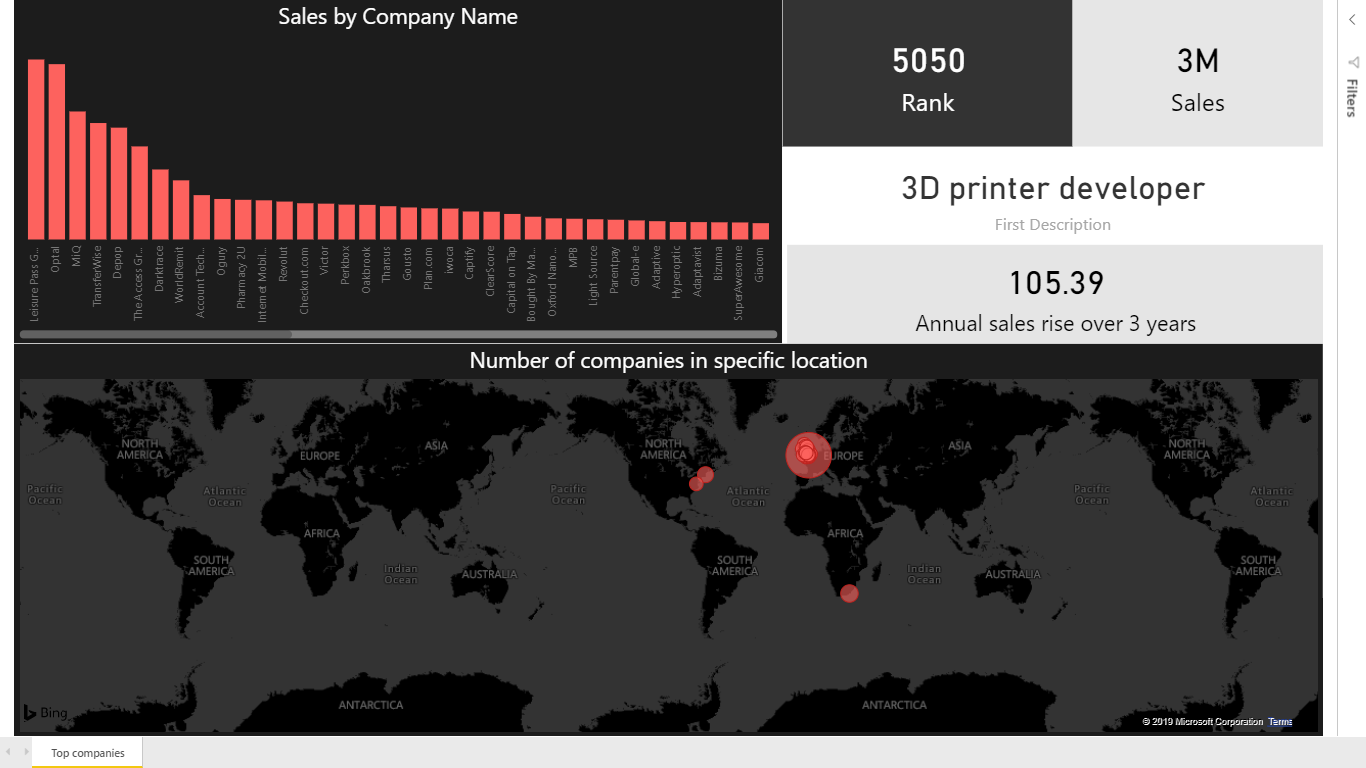

The page's visual inventory and layout, read from the dashboard file:
{"tool":"powerbi","page":{"name":"Top companies","canvas":[1280,720],"ordinal":0},"visuals":[{"type":"map","title":"Number of companies in specific location","fields":{"Category":["techtrack100.Location"],"Size":["CountNonNull(techtrack100.Company Name)"]},"box":[0,335.9,1280.3,384.1],"z":0},{"type":"card","fields":{"Values":["Min(techtrack100.Description)"]},"box":[751.7,143.2,528.6,96.4],"z":6},{"type":"card","fields":{"Values":["Sum(techtrack100.Sales)"]},"box":[1035.3,0,245,143.2],"z":1000},{"type":"card","fields":{"Values":["Sum(techtrack100.Rank)"]},"box":[751.7,0,283.6,143.2],"z":2000},{"type":"columnChart","fields":{"Y":["Sum(techtrack100.Sales)"],"Category":["techtrack100.Company Name"]},"box":[0,0,751.7,335.9],"z":3000},{"type":"card","fields":{"Values":["Sum(techtrack100.Annual sales rise over 3 years)"]},"box":[755.8,239.5,524.5,96.4],"z":4000}]}

Visuals, with their boxes in screenshot pixels (x1, y1, x2, y2):
"Number of companies in specific location" map: 11/341/1310/731
card - Min(techtrack100.Description): 774/145/1310/243
card - Sum(techtrack100.Sales): 1062/0/1310/145
card - Sum(techtrack100.Rank): 774/0/1062/145
columnChart - Sum(techtrack100.Sales) x techtrack100.Company Name: 11/0/774/341
card - Sum(techtrack100.Annual sales rise over 3 years): 778/243/1310/341
